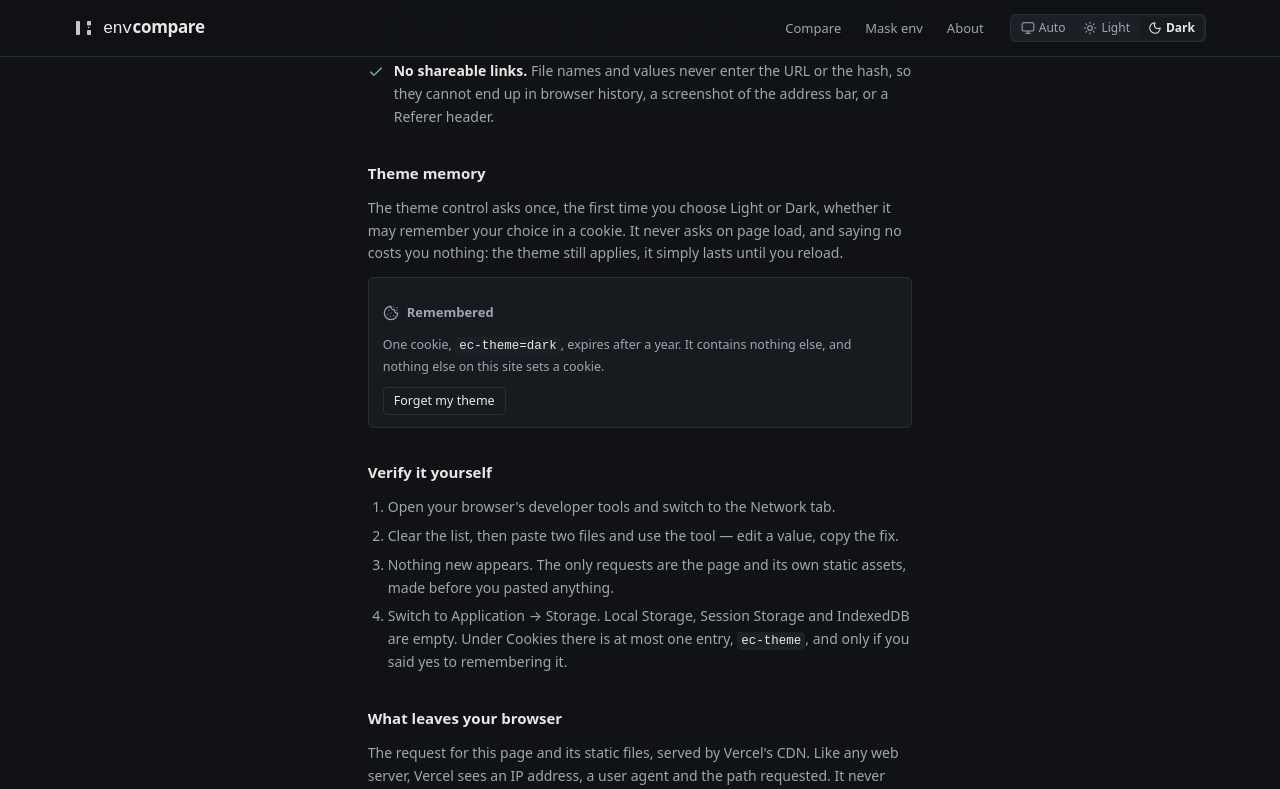
Test case: theme memory › can be forgotten from the privacy page
The image size is (1280, 789).
(page scrolled)
Expected: the text "Remembered" is shown, [383,303,494,321]
Click the button "Forget my theme" at {"x": 444, "y": 401}, box [383,387,506,415]
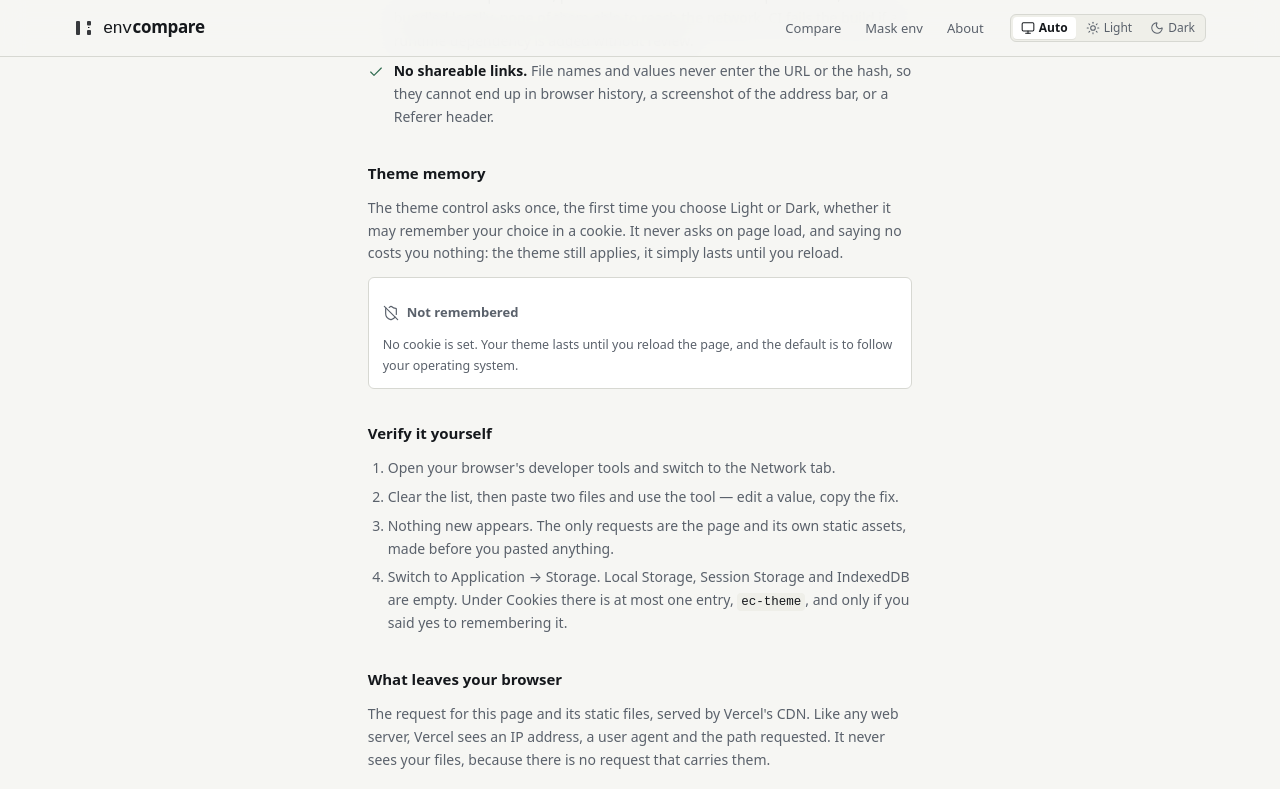
Expected: the text "Not remembered" is shown, [383,303,518,321]
